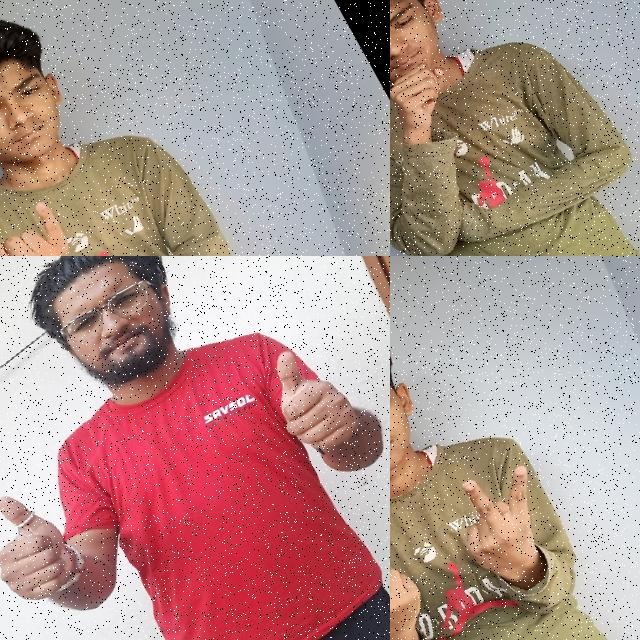Corna: (0, 167, 110, 256)
Fist Mouth: (390, 0, 514, 172)
Reversed Victory: (428, 432, 588, 604), (390, 519, 468, 640)
Thumbs Up: (235, 314, 384, 481), (0, 462, 111, 629)
